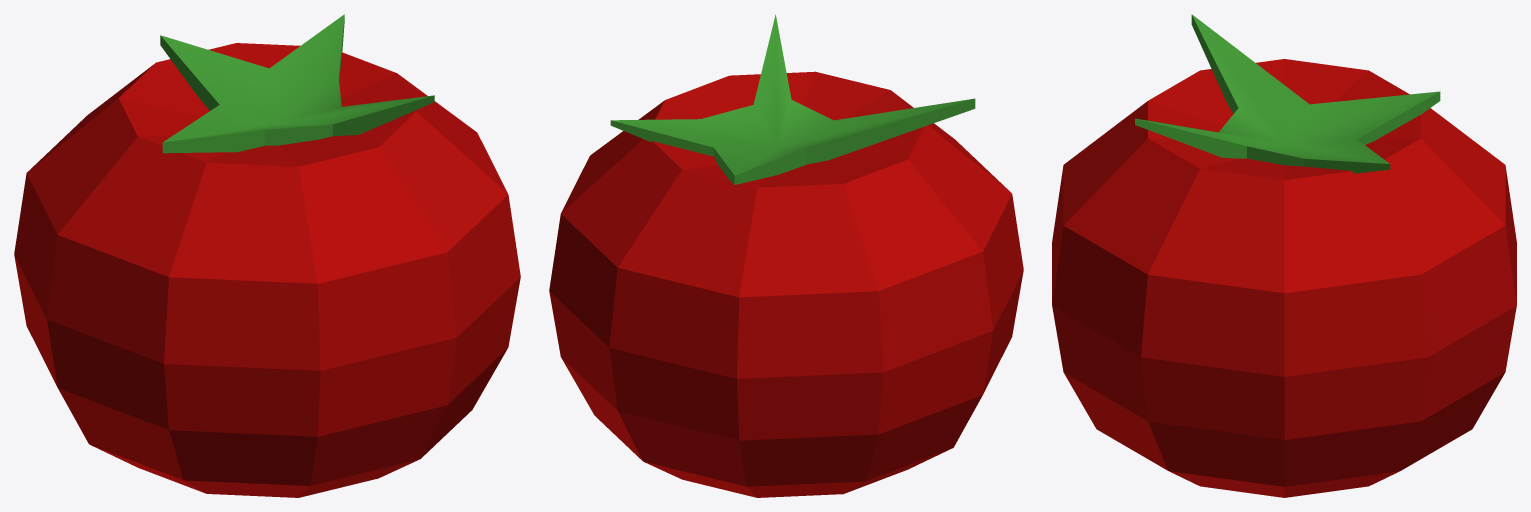
Rendered from Tomato.fbx.
The picture shows the model from 3 angles, left to right: view 1: azimuth 30°, elevation 25°; view 2: azimuth 150°, elevation 25°; view 3: azimuth 270°, elevation 25°; orthographic projection. The views are drawn at different scales.
Visible parts, largest first — view 1: Tomato; view 2: Tomato; view 3: Tomato.
Boxes of the visible parts, x1,y1,x2,y2 form: Tomato: [14, 14, 520, 497]; Tomato: [549, 14, 1023, 497]; Tomato: [1052, 14, 1516, 497].
Size of the model in its own units: 0.604 by 0.4918 by 0.5745.
